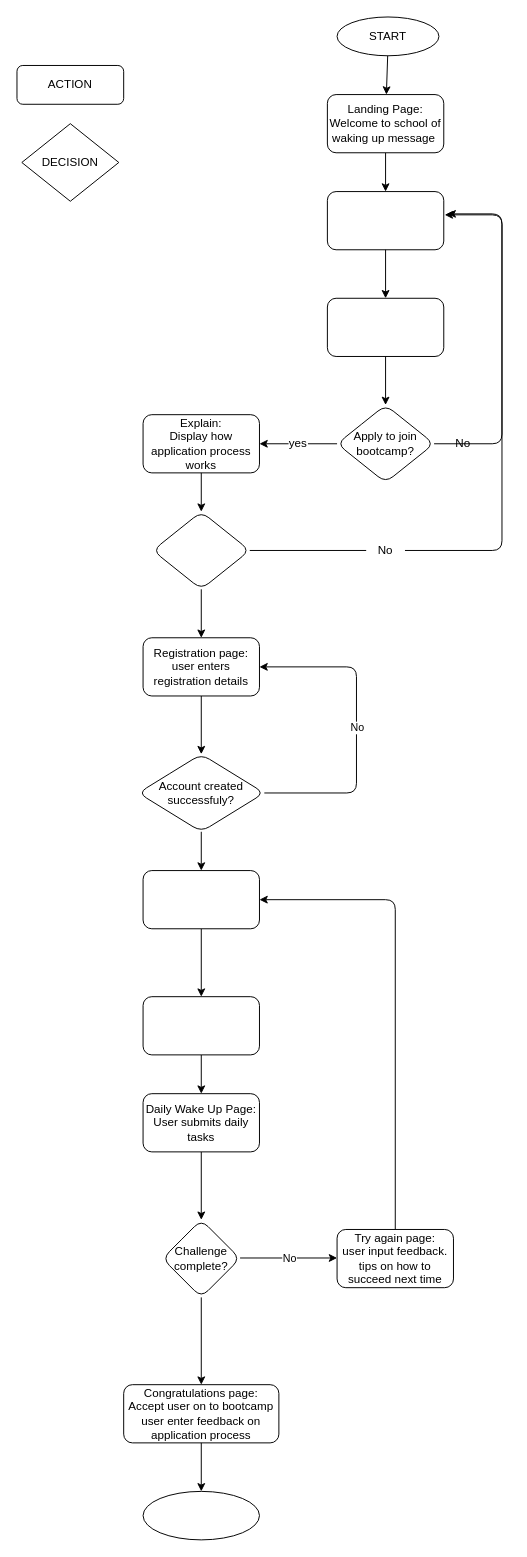
Some shapes in this 527 by 1557 pixel diagram are drawn without their labels. Each missing label, with the centre of its shape:
"Continue with application?" goes at (x=201, y=550).
"END" goes at (x=200, y=1515).
"start challenge page: motivational quote" goes at (x=200, y=899).
"Target page: User enters target wake up time" goes at (x=200, y=1025).
"The HOW: Display how bootcamp works/will help achieve goal" goes at (x=385, y=326).
"The WHY: Display benefits of waking up early" goes at (x=385, y=220).
